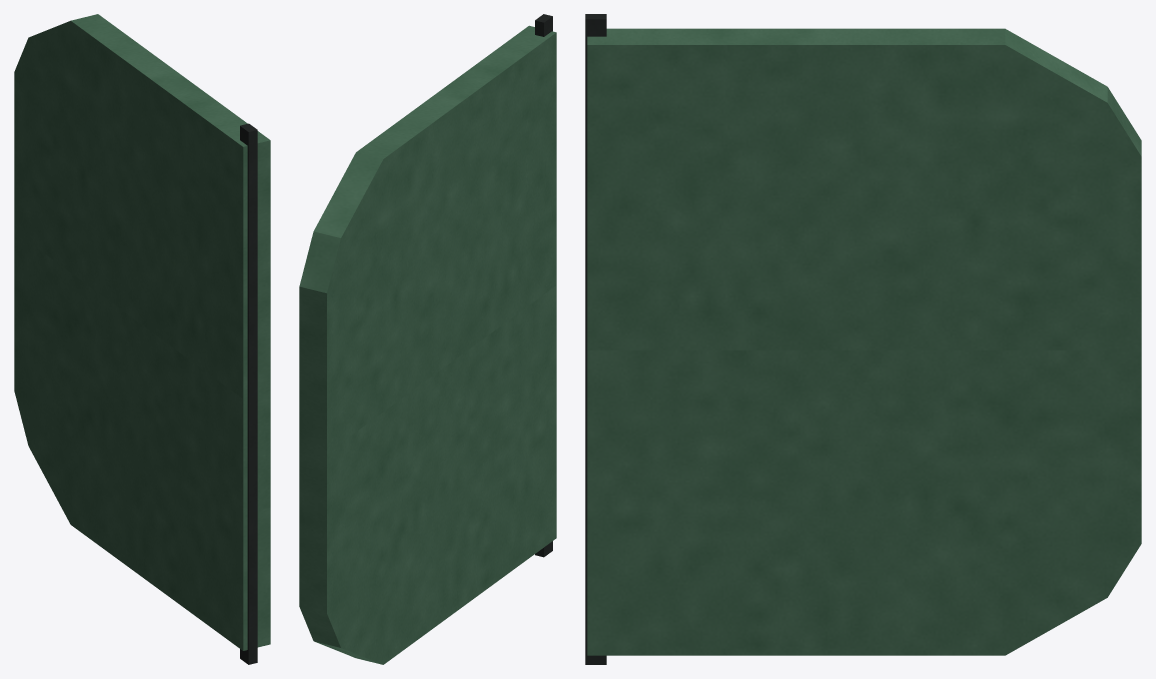
Rendered from Gutter_EndCap.glb.
3 renders of one model, left to right at view 1: azimuth 30°, elevation 25°; view 2: azimuth 150°, elevation 25°; view 3: azimuth 270°, elevation 25°, orthographic. The views are drawn at different scales.
Parts seen in each view (by area): view 1: Gutter_End_Cover, EndCap_Soft_Seal; view 2: Gutter_End_Cover, EndCap_Soft_Seal; view 3: Gutter_End_Cover, EndCap_Soft_Seal.
Boxes of the visible parts, x1,y1,x2,y2 form: Gutter_End_Cover: (14,14,270,650); EndCap_Soft_Seal: (240,123,257,664); Gutter_End_Cover: (299,25,556,664); EndCap_Soft_Seal: (535,14,552,557); Gutter_End_Cover: (587,28,1141,655); EndCap_Soft_Seal: (585,14,606,664).
Size of the model in its own units: 0.009 by 0.167 by 0.1305.
Materials: 2 (2 with a texture image).
